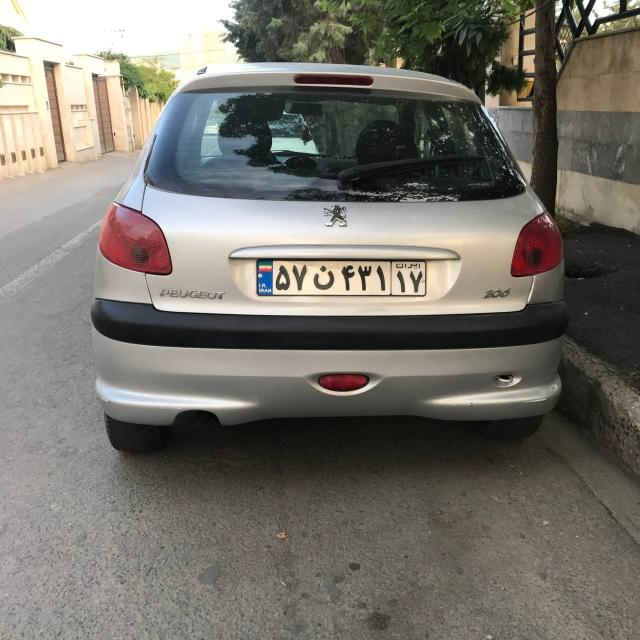Plates: (256, 259, 426, 298)
